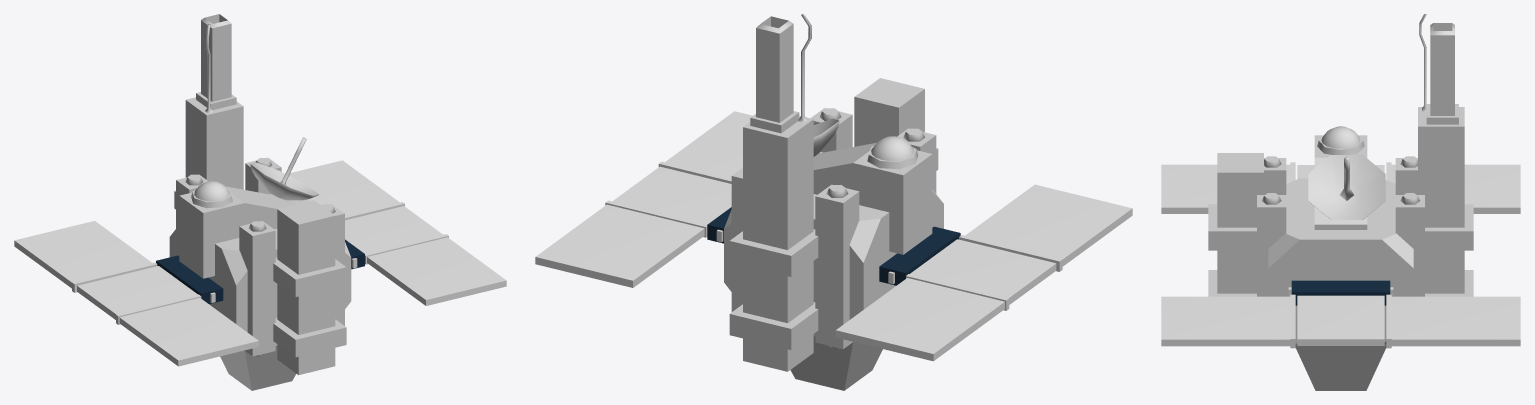
Rendered from satellite.fbx.
3 renders of one model, left to right at view 1: azimuth 30°, elevation 25°; view 2: azimuth 150°, elevation 25°; view 3: azimuth 270°, elevation 25°, orthographic. The views are drawn at different scales.
Visible parts, largest first — view 1: Cube.006, Cube.008, Cube.003, Cube.001, Cube.002, Cube.004, Cube.016, Cube.015, Cube, Cube.009, Cube.010, Cylinder.002 (+2 smaller); view 2: Cube.008, Cube.016, Cube.006, Cube.001, Cube.002, Cube.004, Cube.015, Cube, Cube.009, Cube.003, Cube.010, Cube.005 (+3 smaller); view 3: Cube, Cube.006, Cube.008, Cube.016, Cube.002, Cube.003, Cube.001, Cylinder.002, Cube.015, Cube.010, Cube.009, Cube.005 (+5 smaller).
Part boxes in pixels (x1,y1,x2,y2): Cube.006: (116, 234, 506, 366); Cube.008: (14, 160, 404, 292); Cube.003: (277, 200, 335, 375); Cube.001: (77, 206, 442, 319); Cube.002: (176, 157, 344, 356); Cube.004: (179, 186, 296, 278); Cube.016: (185, 97, 243, 189); Cube.015: (174, 190, 346, 357); Cube: (169, 194, 351, 345); Cube.009: (201, 14, 231, 101); Cube.010: (220, 346, 296, 390); Cylinder.002: (250, 137, 319, 200); Cube.008: (535, 200, 1009, 361); Cube.016: (743, 116, 813, 371); Cube.006: (658, 111, 1132, 271); Cube.001: (612, 166, 1056, 304); Cube.002: (731, 108, 936, 349); Cube.004: (813, 142, 932, 254); Cube.015: (729, 148, 938, 350); Cube: (724, 152, 943, 336); Cube.009: (756, 16, 793, 122); Cube.003: (854, 78, 924, 146); Cube.010: (790, 336, 882, 390); Cube.005: (707, 207, 960, 285); Cube: (1268, 178, 1413, 343); Cube.006: (1161, 162, 1295, 348); Cube.008: (1386, 162, 1520, 348); Cube.016: (1418, 107, 1464, 293); Cube.002: (1257, 158, 1424, 296); Cube.003: (1217, 153, 1263, 293); Cube.001: (1288, 165, 1393, 345); Cylinder.002: (1308, 155, 1385, 219); Cube.015: (1208, 204, 1473, 296); Cube.010: (1295, 343, 1386, 390); Cube.009: (1430, 23, 1454, 115); Cube.005: (1291, 280, 1390, 305).
Size of the model in its own units: 574 by 545 by 494.
